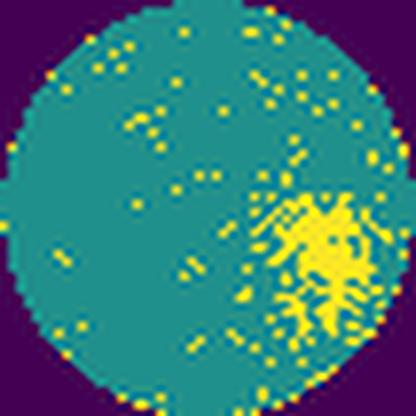Loc: (250, 192, 377, 340)
